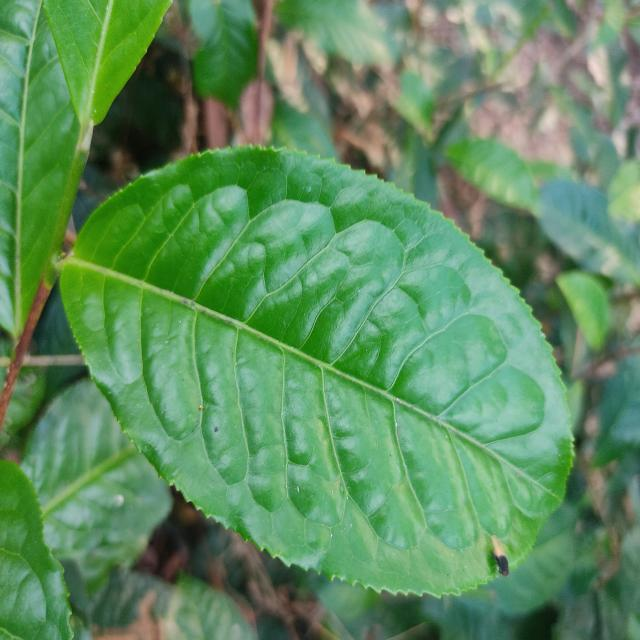Category D(7+ days, Not for Tea): (50, 136, 594, 616)
